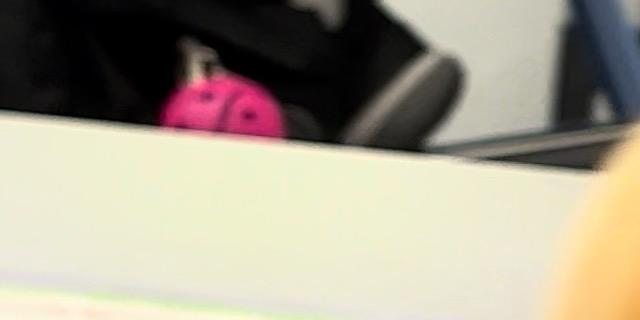burger: (450, 0, 640, 320)
